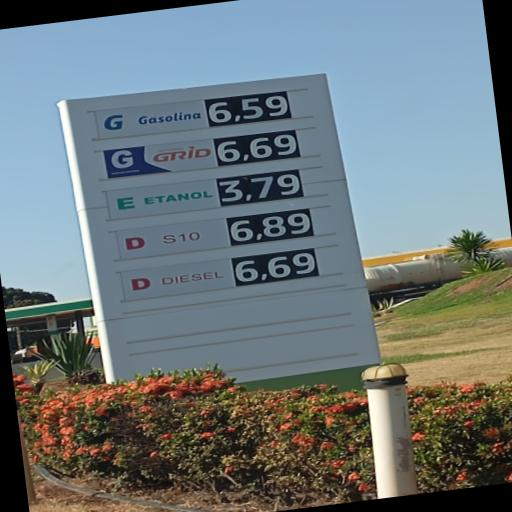ETANOL: (103, 177, 221, 221)
GASOLINA AD: (100, 137, 221, 182)
GASOLINA C: (97, 99, 210, 138)
S10: (114, 219, 226, 260)
S500: (119, 258, 231, 303)
placa: (61, 75, 380, 363)
preco: (227, 206, 320, 247), (214, 128, 304, 168), (232, 248, 320, 288), (208, 89, 294, 129), (218, 170, 303, 206)
